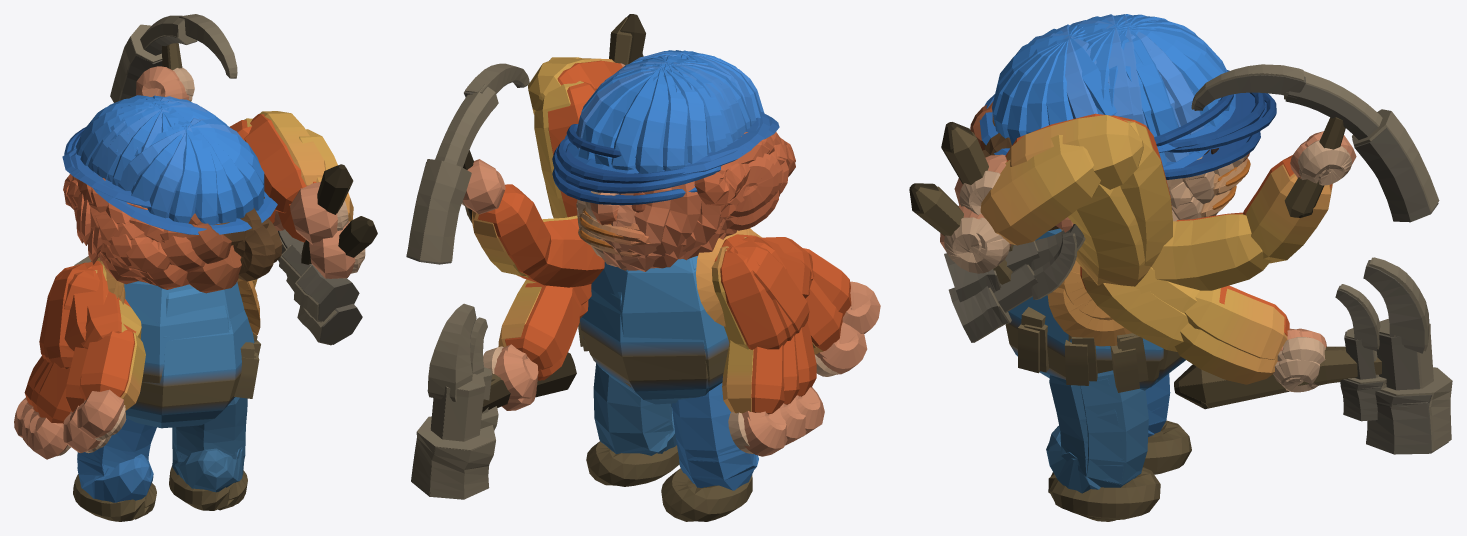
The model's file is worker_hammer.fbx.
3 renders of one model, left to right at view 1: azimuth 30°, elevation 25°; view 2: azimuth 150°, elevation 25°; view 3: azimuth 270°, elevation 25°, orthographic. The views are drawn at different scales.
Parts seen in each view (by area): view 1: Hammer; view 2: Hammer; view 3: Hammer.
Boxes of the visible parts, <box> form: Hammer: <box>14,14,377,521</box>; Hammer: <box>406,14,880,521</box>; Hammer: <box>909,14,1452,521</box>.
Size of the model in its own units: 1.52 by 2.11 by 2.16.
